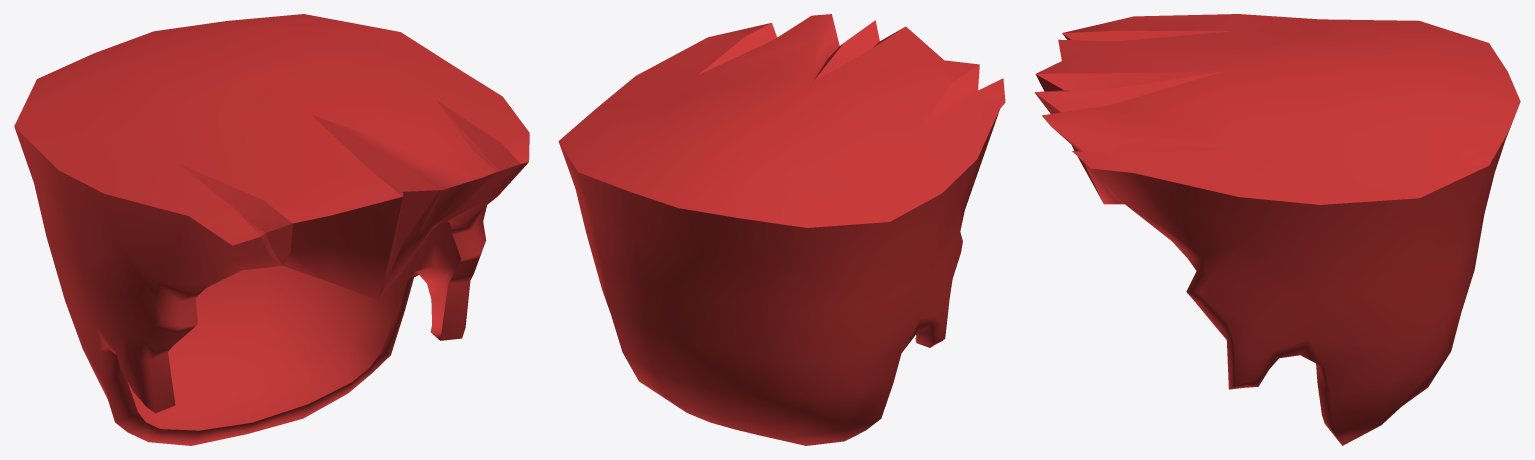
File: Hair_Red_4.fbx
3 renders of one model, left to right at view 1: azimuth 30°, elevation 25°; view 2: azimuth 150°, elevation 25°; view 3: azimuth 270°, elevation 25°, orthographic. The views are drawn at different scales.
Parts seen in each view (by area): view 1: Hair_Red_4; view 2: Hair_Red_4; view 3: Hair_Red_4.
Part boxes in pixels (x1,y1,x2,y2): Hair_Red_4: [14, 14, 529, 445]; Hair_Red_4: [558, 14, 1005, 445]; Hair_Red_4: [1034, 14, 1520, 445].
Size of the model in its own units: 62.29 by 53.97 by 68.97.
